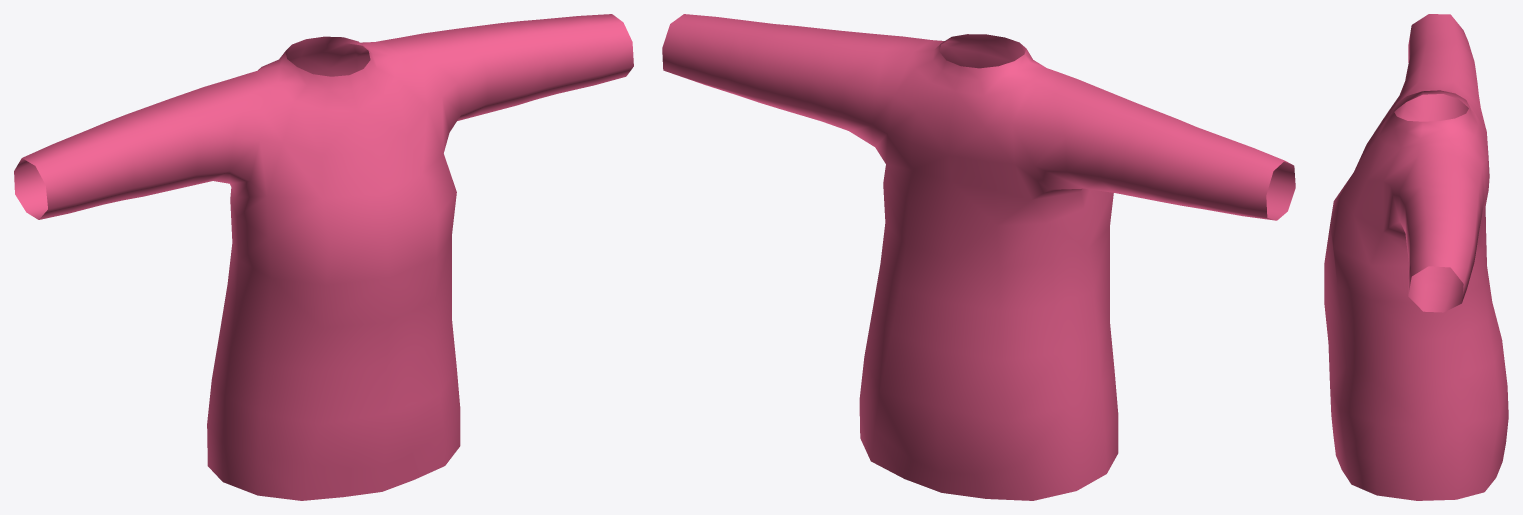
File: Outerwear_Pink_014.glb
3 views of the same model, side by side, from view 1: azimuth 30°, elevation 25°; view 2: azimuth 150°, elevation 25°; view 3: azimuth 270°, elevation 25° (orthographic). The views are drawn at different scales.
Visible parts, largest first — view 1: Outerwear_Pink_014; view 2: Outerwear_Pink_014; view 3: Outerwear_Pink_014.
Boxes of the visible parts, <box> form: Outerwear_Pink_014: <box>14,14,633,500</box>; Outerwear_Pink_014: <box>662,14,1295,500</box>; Outerwear_Pink_014: <box>1324,14,1508,500</box>.
Size of the model in its own units: 1.22 by 0.8008 by 0.3763.
Materials: 1 (1 with a texture image).
